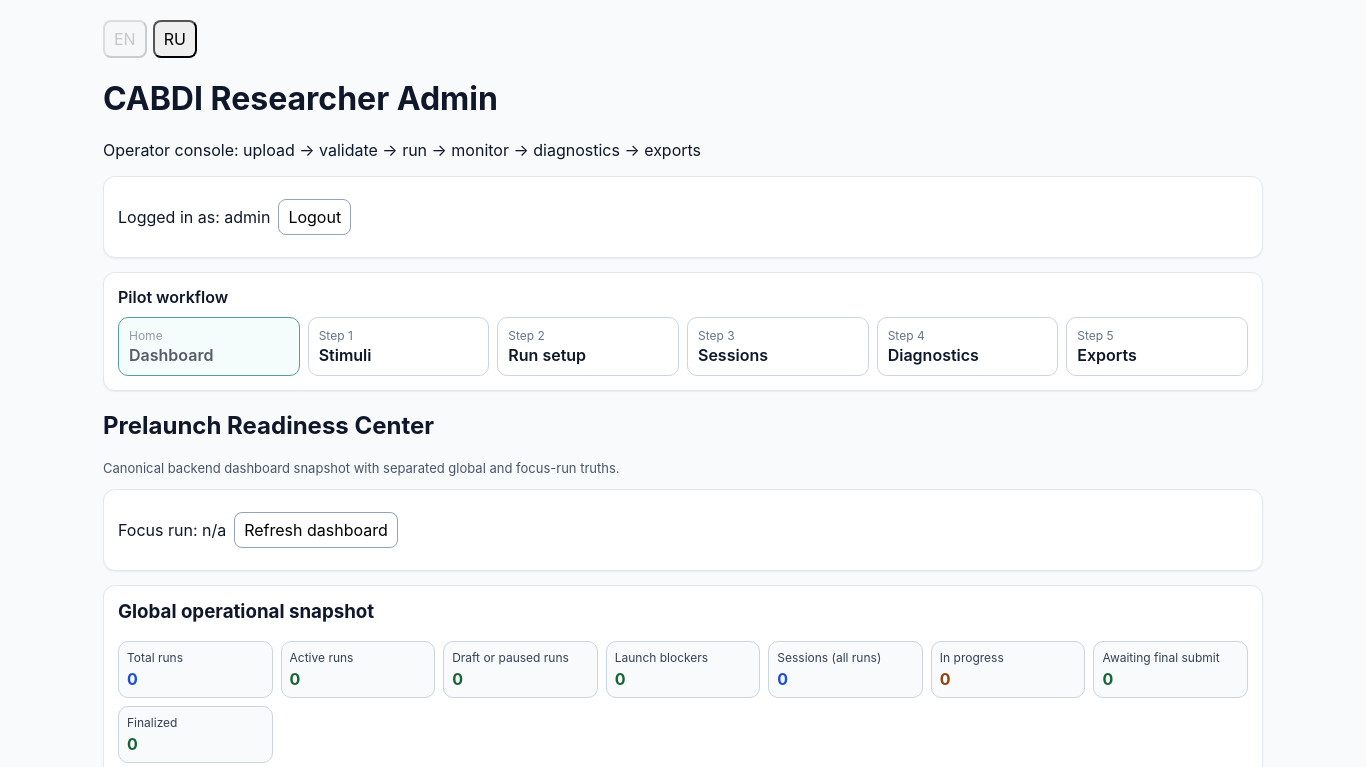
Test: researcher auth shell › keeps pre-activation summary bound to current draft form when selected run details have larger counts
The image size is (1366, 767).
Expected: the text "Logged in as: admin" is shown, 118,207 -> 270,227
Click the button with aria-label "Step 2: Create & Control Runs".
click(588, 346)  # box 497,317 -> 679,376
(page scrolled)
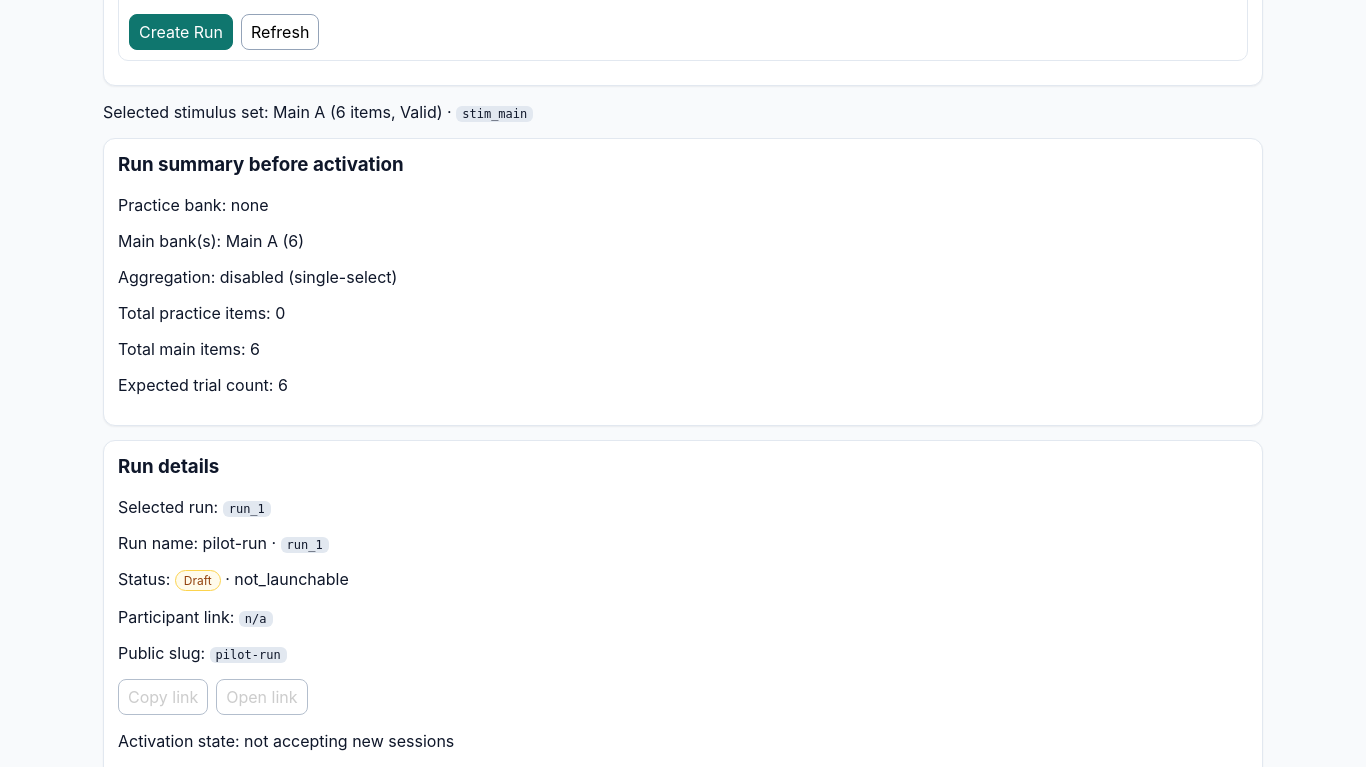
Expected: the text "Run summary before activation" is shown, 118,153 -> 404,176
Expected: the text "Total practice items: 0" is shown, 118,303 -> 285,323
Expected: the text "Total main items: 6" is shown, 118,339 -> 260,359
